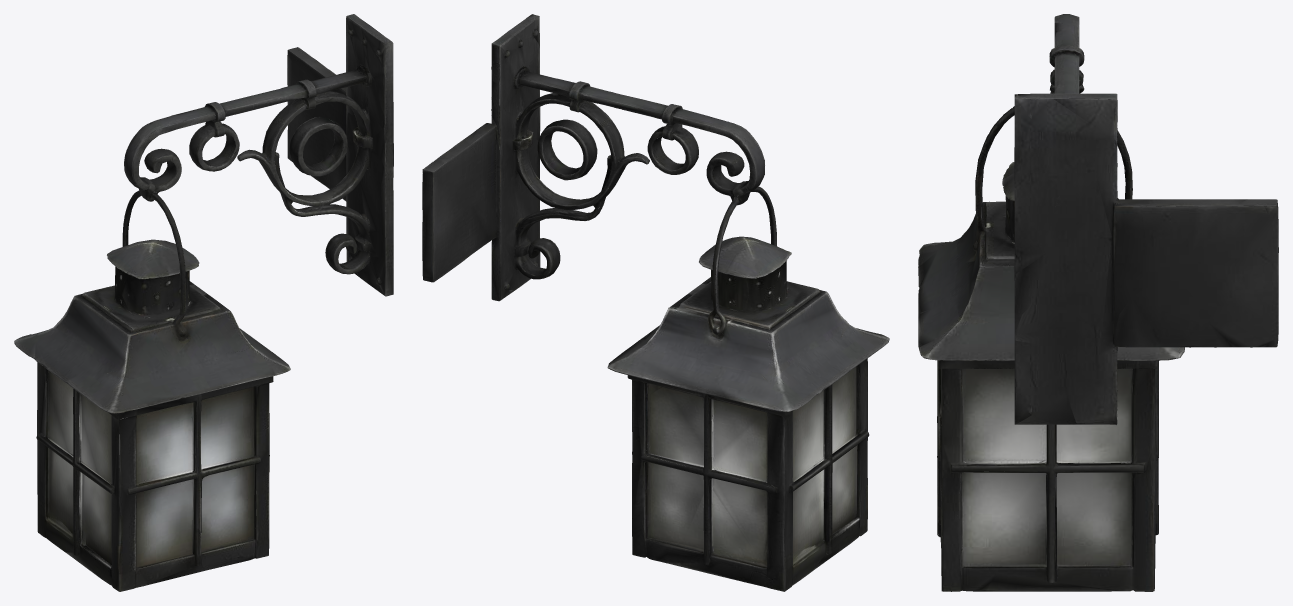
File: street-lantern-bracket.glb
The picture shows the model from 3 angles, left to right: view 1: azimuth 30°, elevation 25°; view 2: azimuth 150°, elevation 25°; view 3: azimuth 270°, elevation 25°; orthographic projection. The views are drawn at different scales.
Parts seen in each view (by area): view 1: Mesh_0; view 2: Mesh_0; view 3: Mesh_0.
Part boxes in pixels (x1,y1,x2,y2): Mesh_0: (14, 14, 393, 591); Mesh_0: (422, 14, 889, 591); Mesh_0: (918, 14, 1278, 591).
Size of the model in its own units: 1.43 by 1.9 by 1.05.
1 material, 1 textured.
